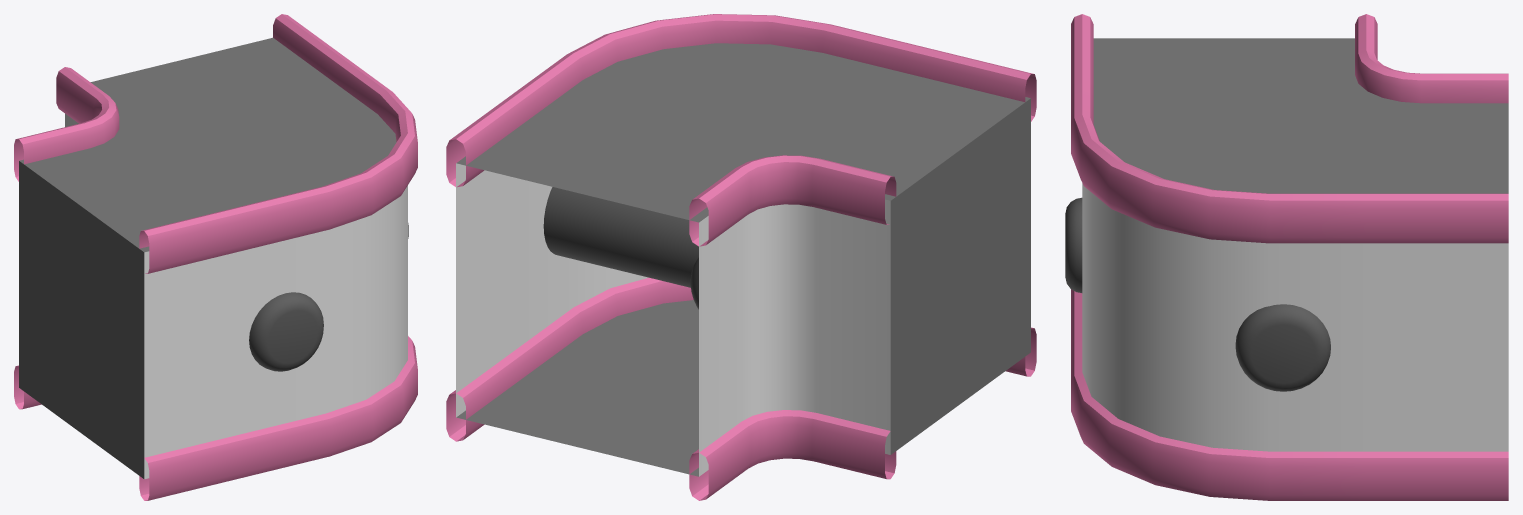
Rendered from parca10.fbx.
3 views of the same model, side by side, from view 1: azimuth 30°, elevation 25°; view 2: azimuth 150°, elevation 25°; view 3: azimuth 270°, elevation 25° (orthographic). The views are drawn at different scales.
Parts seen in each view (by area): view 1: 10; view 2: 10; view 3: 10.
Boxes of the visible parts, left/top/right/bottom form: 10: left=14, top=14, right=417, bottom=500; 10: left=446, top=14, right=1036, bottom=500; 10: left=1065, top=14, right=1508, bottom=500.
Size of the model in its own units: 3.11 by 2.38 by 3.12.
